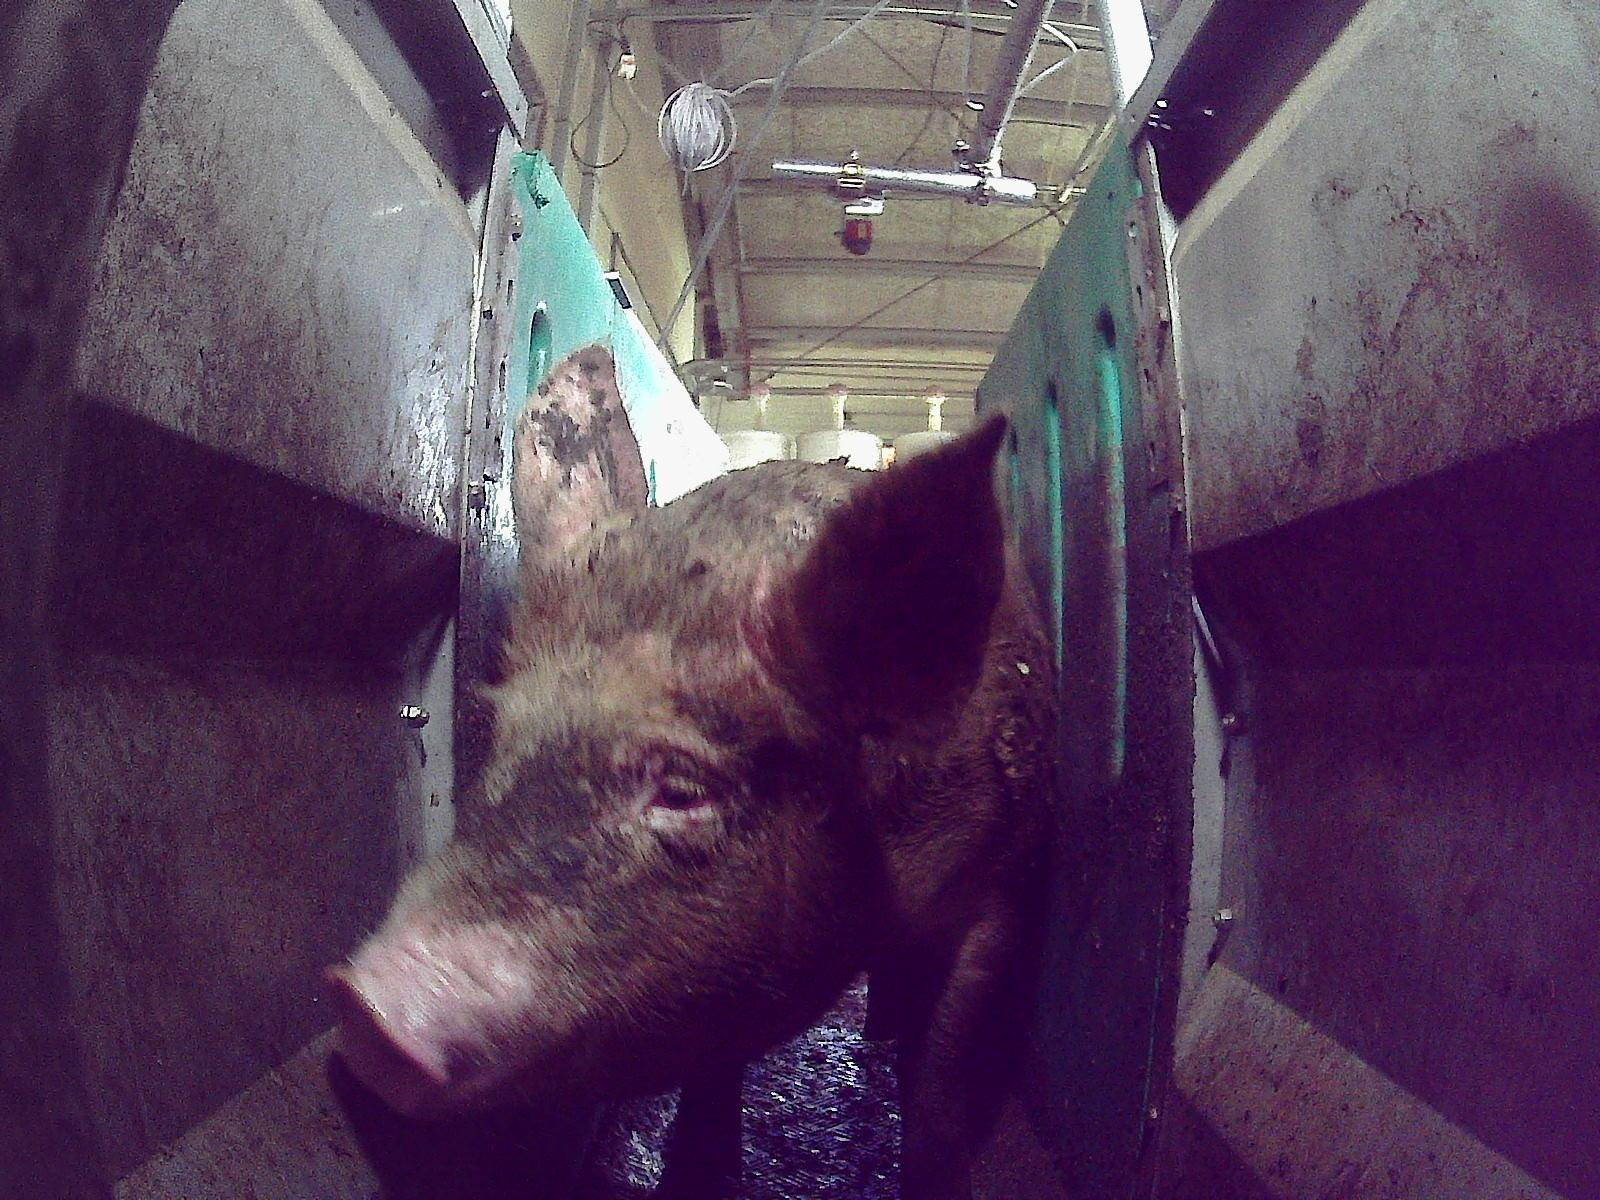Face: (325, 532, 871, 1122)
